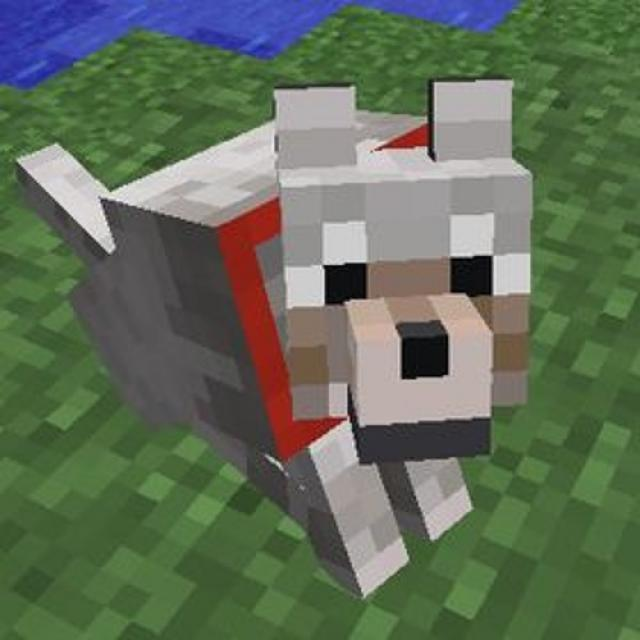Wolf: (15, 78, 533, 602)
